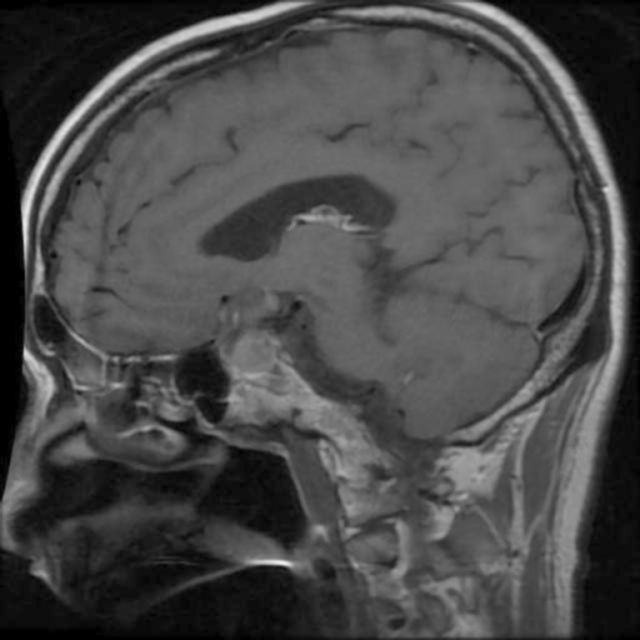no tumor: (219, 285, 286, 396)
